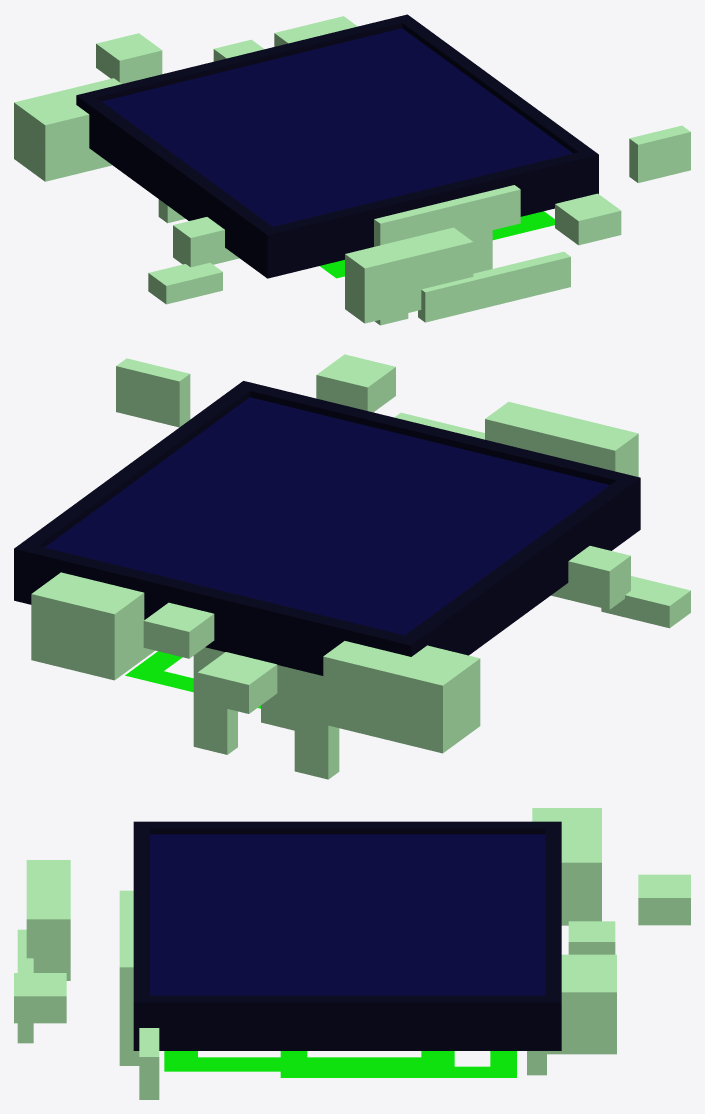
File: Digital platform.fbx
3 views of the same model, one above another, from view 1: azimuth 30°, elevation 25°; view 2: azimuth 150°, elevation 25°; view 3: azimuth 270°, elevation 25° (orthographic). The views are drawn at different scales.
Visible parts, largest first — view 1: Platform, Glitch; view 2: Platform, Glitch; view 3: Platform, Glitch.
Part boxes in pixels (x1,y1,x2,y2): Platform: [76, 14, 598, 278]; Glitch: [14, 16, 690, 325]; Platform: [14, 381, 640, 708]; Glitch: [31, 354, 690, 779]; Platform: [133, 821, 561, 1077]; Glitch: [14, 808, 690, 1099].
Bounding box in the file's own units: 1201 × 312 × 1265.
